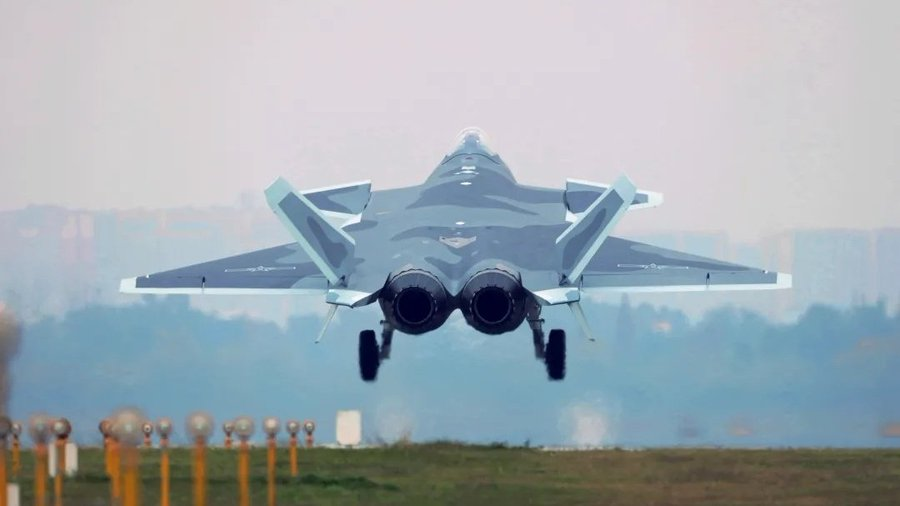J20: (119, 126, 793, 383)
